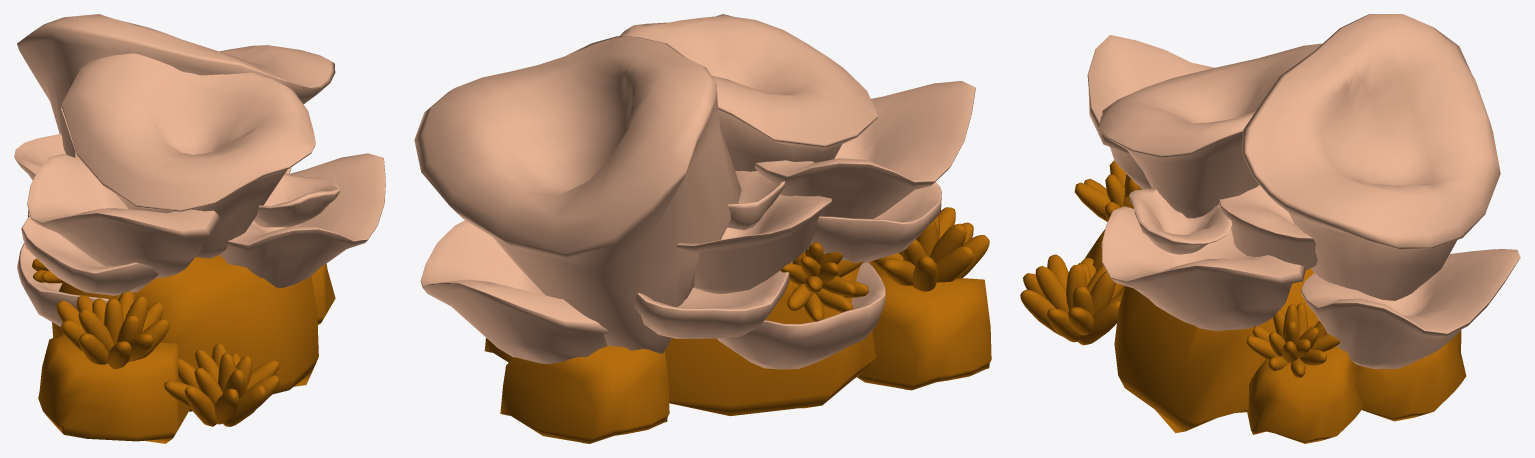
The model's file is SM_Coral_Leaves.fbx.
The picture shows the model from 3 angles, left to right: view 1: azimuth 30°, elevation 25°; view 2: azimuth 150°, elevation 25°; view 3: azimuth 270°, elevation 25°; orthographic projection. The views are drawn at different scales.
Parts seen in each view (by area): view 1: SM_Coral_Leaves; view 2: SM_Coral_Leaves; view 3: SM_Coral_Leaves.
Boxes of the visible parts, <box> form: SM_Coral_Leaves: <box>14,14,385,443</box>; SM_Coral_Leaves: <box>414,14,991,443</box>; SM_Coral_Leaves: <box>1020,14,1520,443</box>.
Size of the model in its own units: 544 by 450 by 584.
